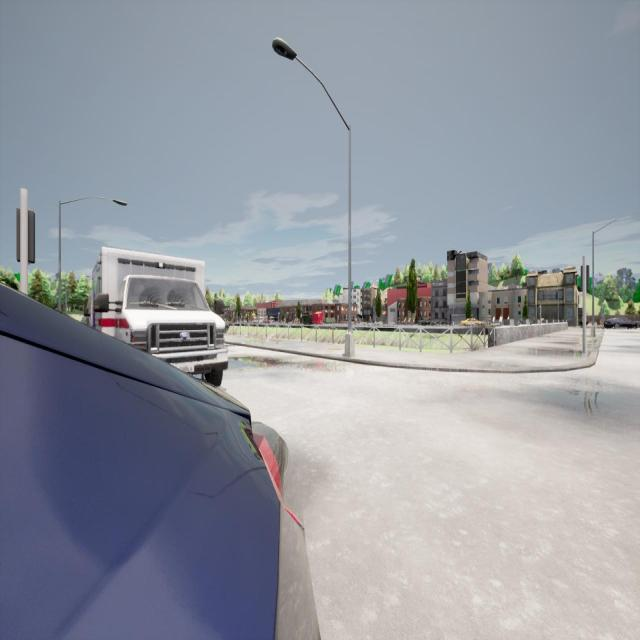Vehicle: (0, 285, 319, 638), (92, 244, 229, 386), (603, 315, 640, 330), (459, 318, 486, 327), (417, 317, 438, 325)
traffic_light: (16, 208, 35, 264), (580, 265, 590, 293)
